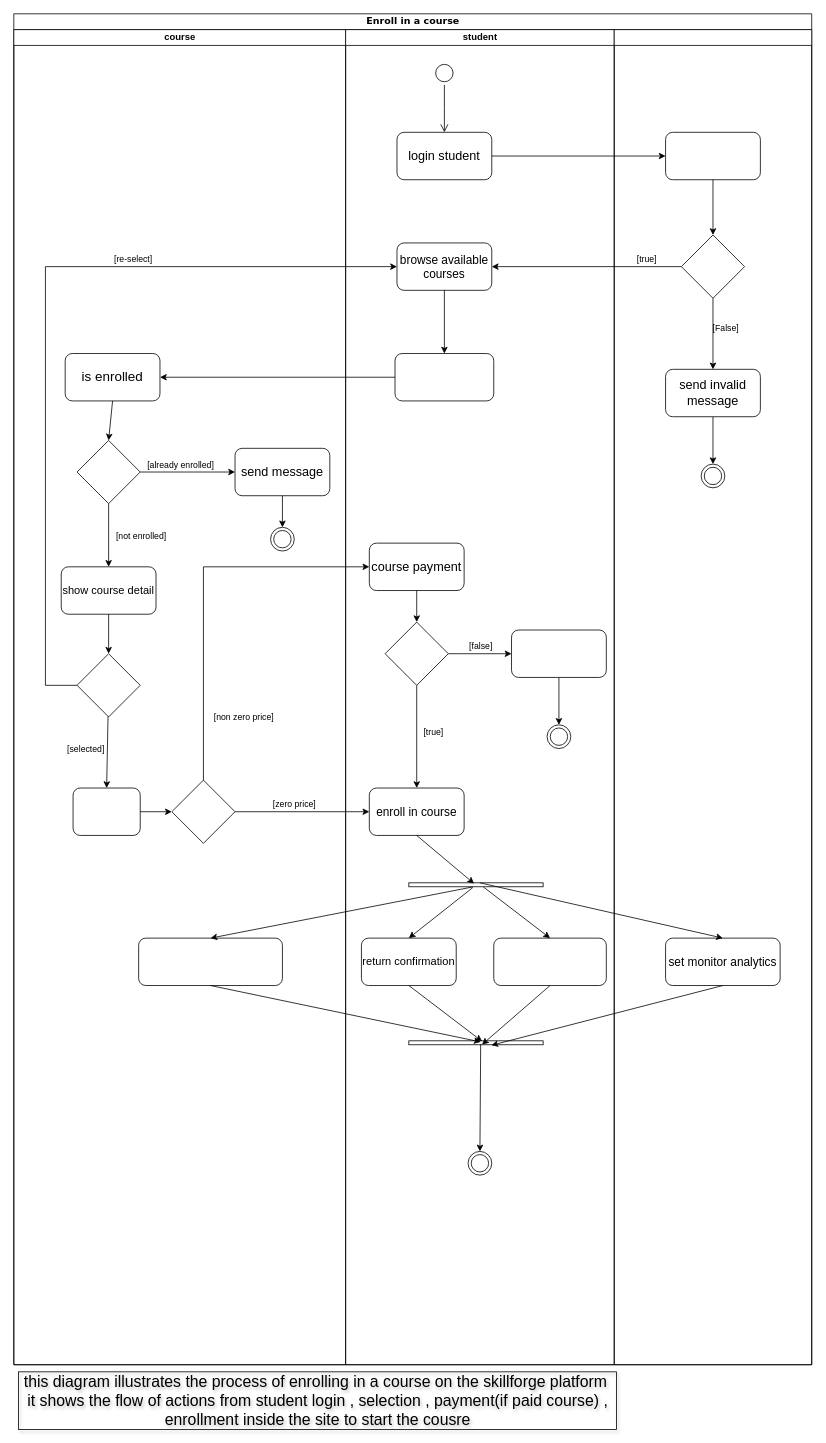
Some shapes in this 826 by 1443 pixel diagram are drawn without their labels. The box of each missing label's shape, as (x1, y1, x2, y2) in pixels:
check valid login: (665, 132, 760, 180)
get price: (72, 787, 140, 835)
select course: (394, 353, 494, 401)
send failed message: (511, 629, 606, 677)
set course student list: (138, 937, 282, 986)
set enrolled courses: (493, 937, 606, 986)
user: (613, 29, 812, 1365)
